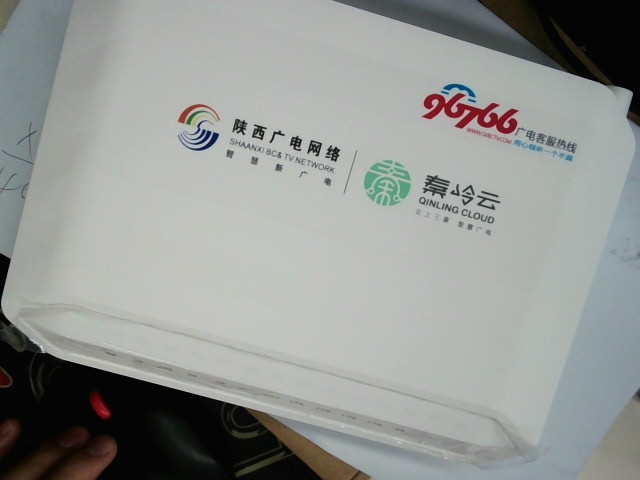QinLing: (359, 152, 512, 242)
